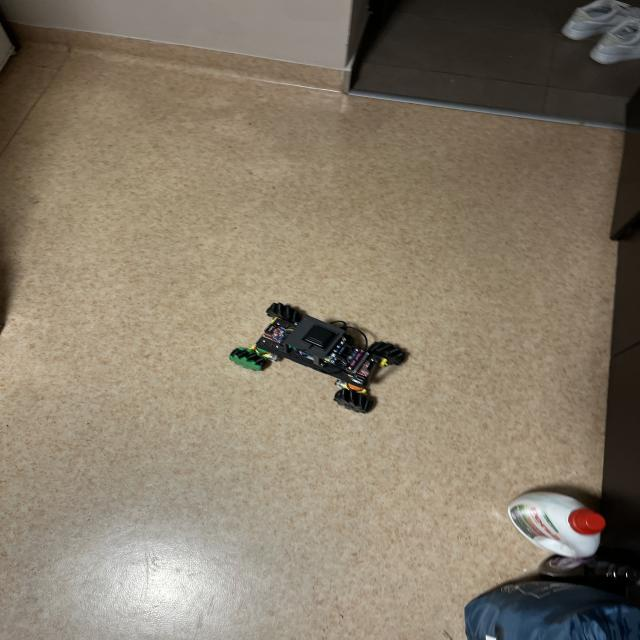robot: (229, 303, 406, 413)
